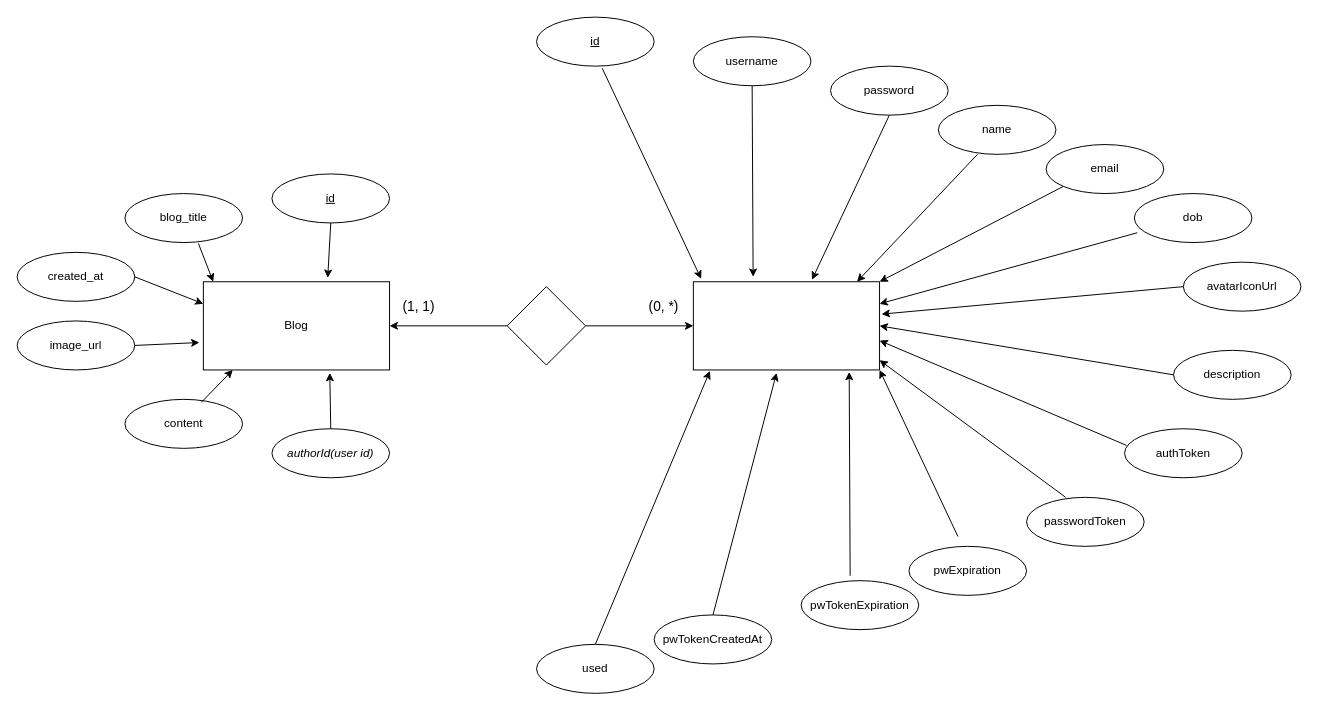
This 1318x711 diagram has some shape labels left out. Each missing label, with the box of its shape:
Creates: (506, 286, 586, 365)
User: (692, 281, 880, 370)
